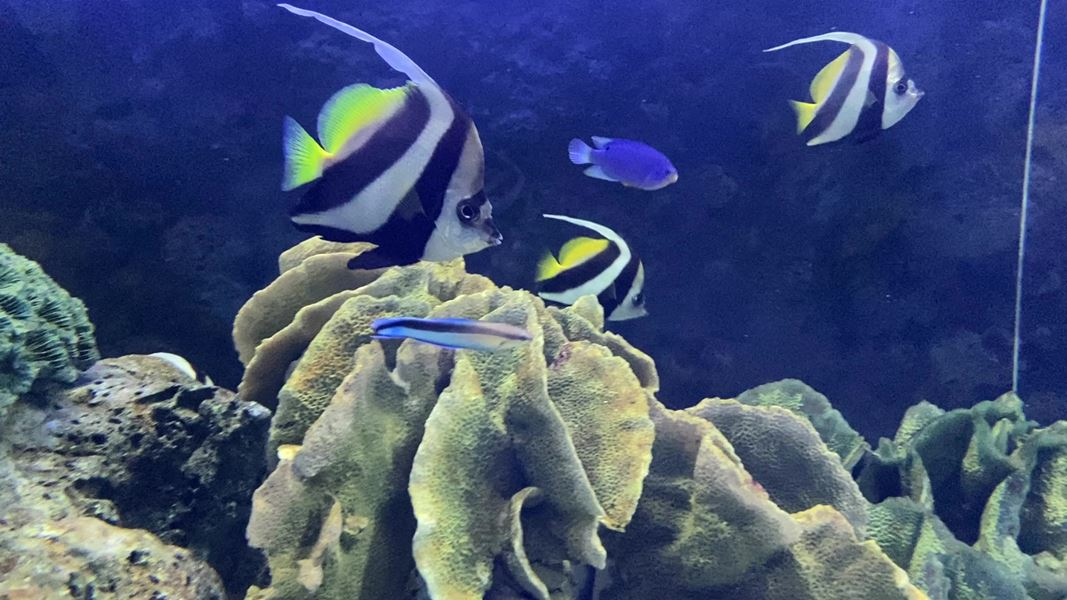Bluesteak cleaner wrasse: (350, 307, 538, 368)
